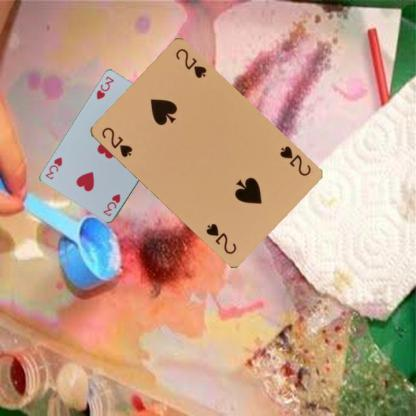2s: (98, 124, 134, 159), (276, 144, 312, 178)
3h: (100, 191, 122, 218), (94, 74, 115, 101)
